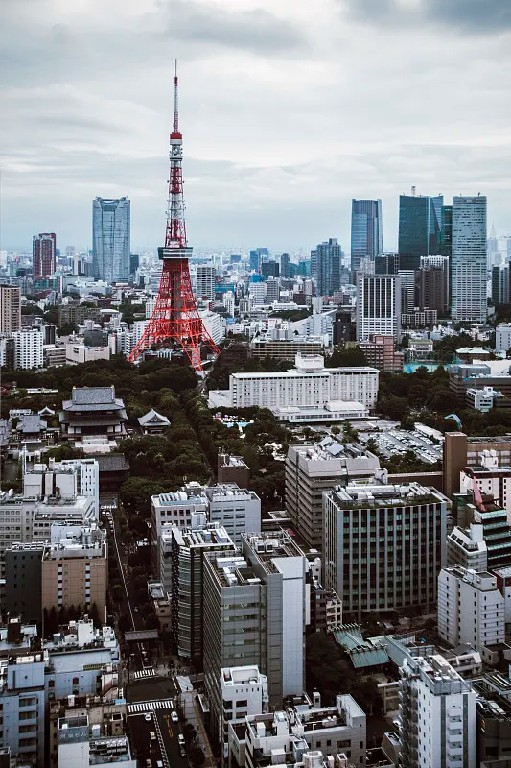Tokyo: (129, 56, 220, 379)
